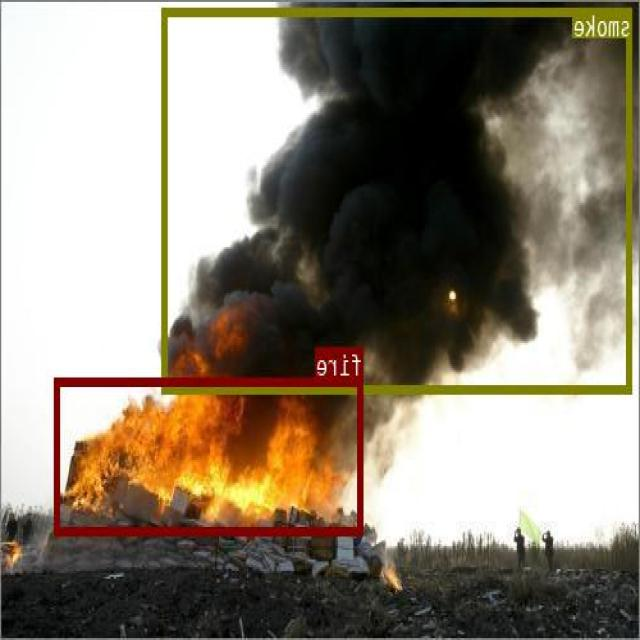fire: (55, 376, 364, 534)
smoke: (163, 6, 632, 393)
